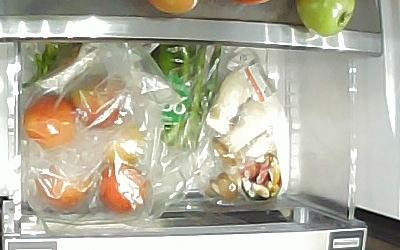prune_vinyl: (21, 88, 77, 151), (67, 73, 125, 129), (96, 161, 151, 215), (33, 163, 94, 210), (102, 122, 148, 165)
